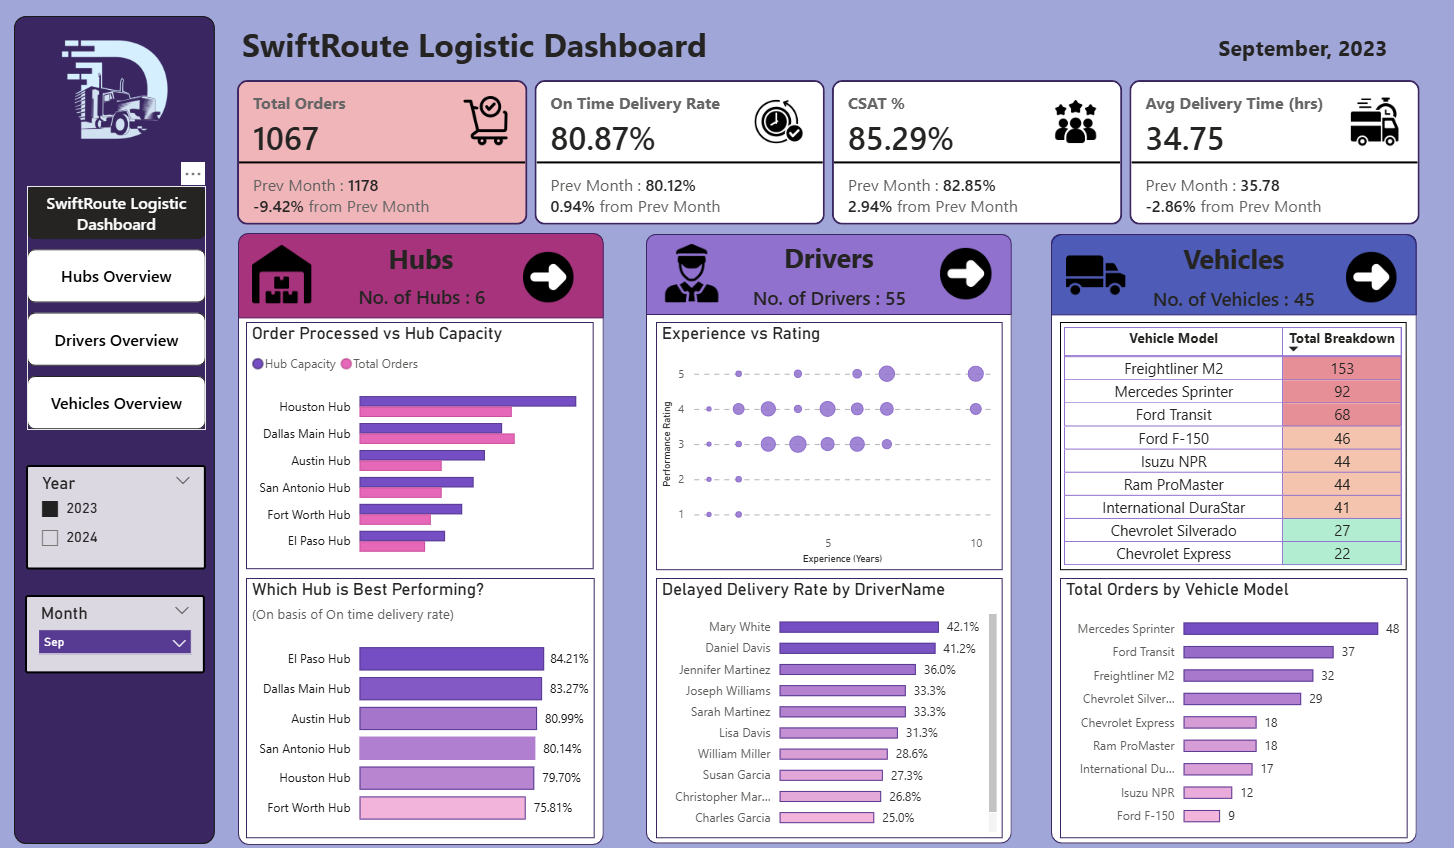

Layout of this report page (visuals, bound fields, positions):
{"tool":"powerbi","page":{"name":"SwiftRoute Logistic Dashboard","canvas":[1450,850],"ordinal":0},"visuals":[{"type":"shape","box":[16.2,16.2,199.9,823.9],"z":0},{"type":"shape","box":[239,233,364,608],"z":0,"group":"g3"},{"type":"group","id":"g1","title":"Section drivers","box":[1048,233,364,607],"z":0,"group":"g4"},{"type":"shape","box":[1048,233,363.9,606.6],"z":0,"group":"g1"},{"type":"shape","box":[645,233.4,363.9,606.6],"z":0,"group":"g2"},{"type":"textbox","box":[238.1,16.5,727.8,57.7],"z":1000},{"type":"shape","box":[239,232,364,85],"z":1000,"group":"g3"},{"type":"shape","box":[645.1,233,363.9,80.6],"z":1000,"group":"g2"},{"type":"shape","box":[1048,233,364,81],"z":1000,"group":"g4"},{"type":"cardVisual","fields":{"Data":["_Measure.Total Orders","_Measure.On Time Delivery Rate","_Measure.CSAT %","_Measure.Avg Delivery Time (hrs)"]},"box":[232.9,74.3,1190,154.3],"z":2000},{"type":"textbox","box":[645,233.4,363.9,48],"z":2000,"group":"g2"},{"type":"textbox","box":[239.2,233.9,363.8,51.2],"z":2000,"group":"g3"},{"type":"tableEx","fields":{"Values":["Vehicles.Vehicle Model","Sum(Vehicles.Breakdown)"]},"box":[1057,321,345,247],"z":2000,"group":"g4"},{"type":"cardVisual","fields":{"Data":["_Measure.Year Month Title"]},"box":[1186.6,16.5,225.8,57.7],"z":3000},{"type":"image","box":[917.2,246,91.4,53.4],"z":3000,"group":"g2"},{"type":"image","box":[502,250,92,52],"z":3000,"group":"g3"},{"type":"barChart","fields":{"Category":["Vehicles.Vehicle Model"],"Y":["_Measure.Total Orders"]},"box":[1057,575,346,259],"z":3000,"group":"g4"},{"type":"image","box":[28.6,28.6,177.1,128.6],"z":4000},{"type":"textbox","box":[1066,234,328,48],"z":4000,"group":"g4"},{"type":"cardVisual","fields":{"Data":["_Measure.No. of Hubs"]},"box":[267,276.2,310,37.7],"z":4000,"group":"g3"},{"type":"cardVisual","fields":{"Data":["_Measure.No. of Drivers"]},"box":[655,276.4,345.1,36.6],"z":4000,"group":"g2"},{"type":"cardVisual","fields":{"Data":["_Measure.No. of Vehicles"]},"box":[1048,280,364,32],"z":5000,"group":"g4"},{"type":"clusteredBarChart","title":"Order Processed vs Hub Capacity","fields":{"Y":["Sum(Hubs.Hub Capacity)","_Measure.Total Orders"],"Category":["Hubs.HubName"]},"box":[247,321,346,246],"z":5000,"group":"g3"},{"type":"scatterChart","title":"Experience vs Rating","fields":{"X":["Drivers.Experience Years"],"Y":["Drivers.Performance Rating"],"Size":["Sum(Drivers.Experience Years)1"]},"box":[655,321,345,247],"z":5000,"group":"g2"},{"type":"slicer","fields":{"Values":["Date Table.Year"]},"box":[27.8,462.9,179.4,104.1],"z":5000},{"type":"image","box":[1321,250,92,52],"z":6000,"group":"g4"},{"type":"barChart","title":"Which Hub is Best Performing?","fields":{"Category":["Hubs.HubName"],"Y":["_Measure.On Time Delivery Rate"]},"box":[247,575,347,259],"z":6000,"group":"g3"},{"type":"barChart","fields":{"Y":["_Measure.Delayed Delivery Rate"],"Category":["Drivers.DriverName"]},"box":[655,575,345,259],"z":6000,"group":"g2"},{"type":"slicer","fields":{"Values":["Date Table.Month Short"]},"box":[26.8,591.8,179.4,78.4],"z":6000},{"type":"group","id":"g2","title":"Section Driver","box":[645,233,364,607],"z":7000},{"type":"group","id":"g3","title":"Hubs Section","box":[239,232,364,609],"z":8000},{"type":"group","id":"g4","title":"Vehicles Section","box":[1048,233,365,607],"z":9000},{"type":"pageNavigator","box":[28.9,185.6,178.4,242.3],"z":10000},{"type":"image","box":[246.9,244.1,71.2,58.3],"z":11000},{"type":"image","box":[654.7,243.2,71.2,58.3],"z":12000},{"type":"image","box":[1057,245.1,71.2,58.3],"z":13000},{"type":"image","box":[460.5,96,49,49],"z":14000},{"type":"image","box":[752.7,96.2,49,49],"z":14001},{"type":"image","box":[1047.7,96.2,49,49],"z":14002},{"type":"image","box":[1345.5,96.2,49,49],"z":14003}]}

Visuals, with their boxes in screenshot pixels (x1, y1, x2, y2), scaled from the page's 1450x850 canvas onto the 1454x848 screenshot:
shape: x1=16 y1=16 x2=217 y2=838
shape: x1=240 y1=232 x2=605 y2=839
"Section drivers" group: x1=1051 y1=232 x2=1416 y2=838
shape: x1=1051 y1=232 x2=1416 y2=838
shape: x1=647 y1=233 x2=1012 y2=838
textbox: x1=239 y1=16 x2=969 y2=74
shape: x1=240 y1=231 x2=605 y2=316
shape: x1=647 y1=232 x2=1012 y2=313
shape: x1=1051 y1=232 x2=1416 y2=313
cardVisual - _Measure.Total Orders x _Measure.On Time Delivery Rate: x1=234 y1=74 x2=1427 y2=228
textbox: x1=647 y1=233 x2=1012 y2=281
textbox: x1=240 y1=233 x2=605 y2=284
tableEx - Vehicles.Vehicle Model x Sum(Vehicles.Breakdown): x1=1060 y1=320 x2=1406 y2=567
cardVisual - _Measure.Year Month Title: x1=1190 y1=16 x2=1416 y2=74
image: x1=920 y1=245 x2=1011 y2=299
image: x1=503 y1=249 x2=596 y2=301
barChart - Vehicles.Vehicle Model x _Measure.Total Orders: x1=1060 y1=574 x2=1407 y2=832
image: x1=29 y1=29 x2=206 y2=157
textbox: x1=1069 y1=233 x2=1398 y2=281
cardVisual - _Measure.No. of Hubs: x1=268 y1=276 x2=579 y2=313
cardVisual - _Measure.No. of Drivers: x1=657 y1=276 x2=1003 y2=312
cardVisual - _Measure.No. of Vehicles: x1=1051 y1=279 x2=1416 y2=311
"Order Processed vs Hub Capacity" clusteredBarChart: x1=248 y1=320 x2=595 y2=566
"Experience vs Rating" scatterChart: x1=657 y1=320 x2=1003 y2=567
slicer - Date Table.Year: x1=28 y1=462 x2=208 y2=566
image: x1=1325 y1=249 x2=1417 y2=301
"Which Hub is Best Performing?" barChart: x1=248 y1=574 x2=596 y2=832
barChart - _Measure.Delayed Delivery Rate x Drivers.DriverName: x1=657 y1=574 x2=1003 y2=832
slicer - Date Table.Month Short: x1=27 y1=590 x2=207 y2=669
"Section Driver" group: x1=647 y1=232 x2=1012 y2=838
"Hubs Section" group: x1=240 y1=231 x2=605 y2=839
"Vehicles Section" group: x1=1051 y1=232 x2=1417 y2=838
pageNavigator: x1=29 y1=185 x2=208 y2=427
image: x1=248 y1=244 x2=319 y2=302
image: x1=657 y1=243 x2=728 y2=301
image: x1=1060 y1=245 x2=1131 y2=303
image: x1=462 y1=96 x2=511 y2=145
image: x1=755 y1=96 x2=804 y2=145
image: x1=1051 y1=96 x2=1100 y2=145
image: x1=1349 y1=96 x2=1398 y2=145
